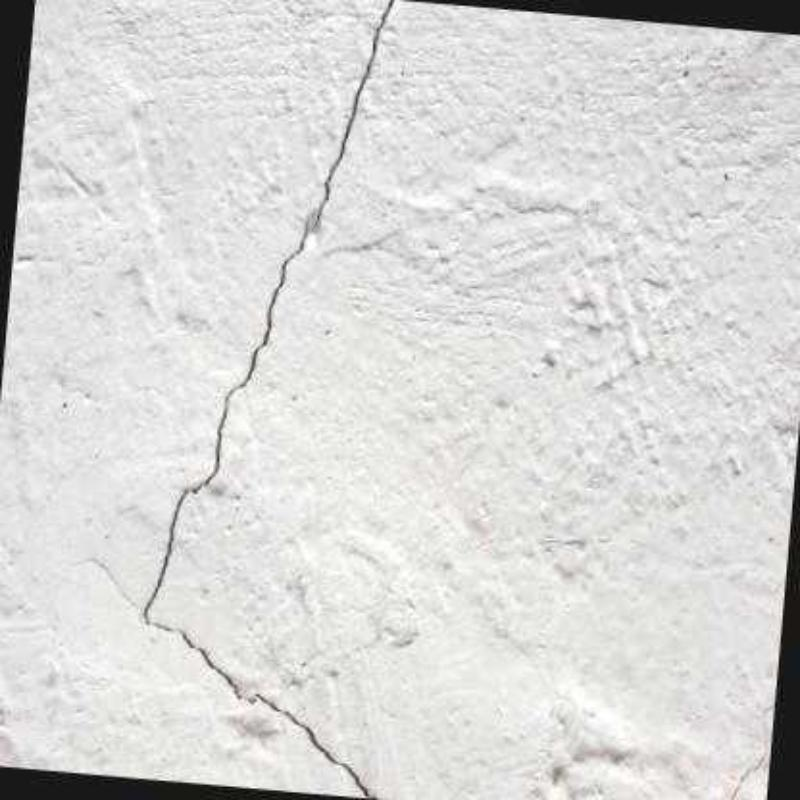pothole: (142, 1, 402, 799), (706, 690, 776, 798)
